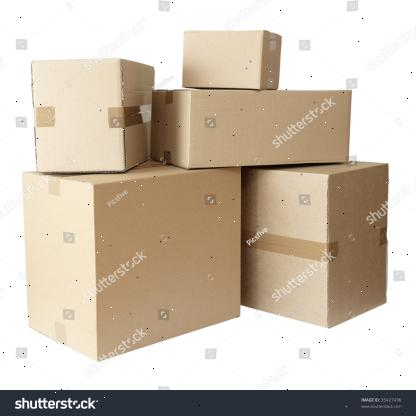box: (96, 167, 242, 361), (240, 167, 330, 327), (188, 89, 350, 169), (29, 58, 126, 171), (181, 29, 267, 89)
